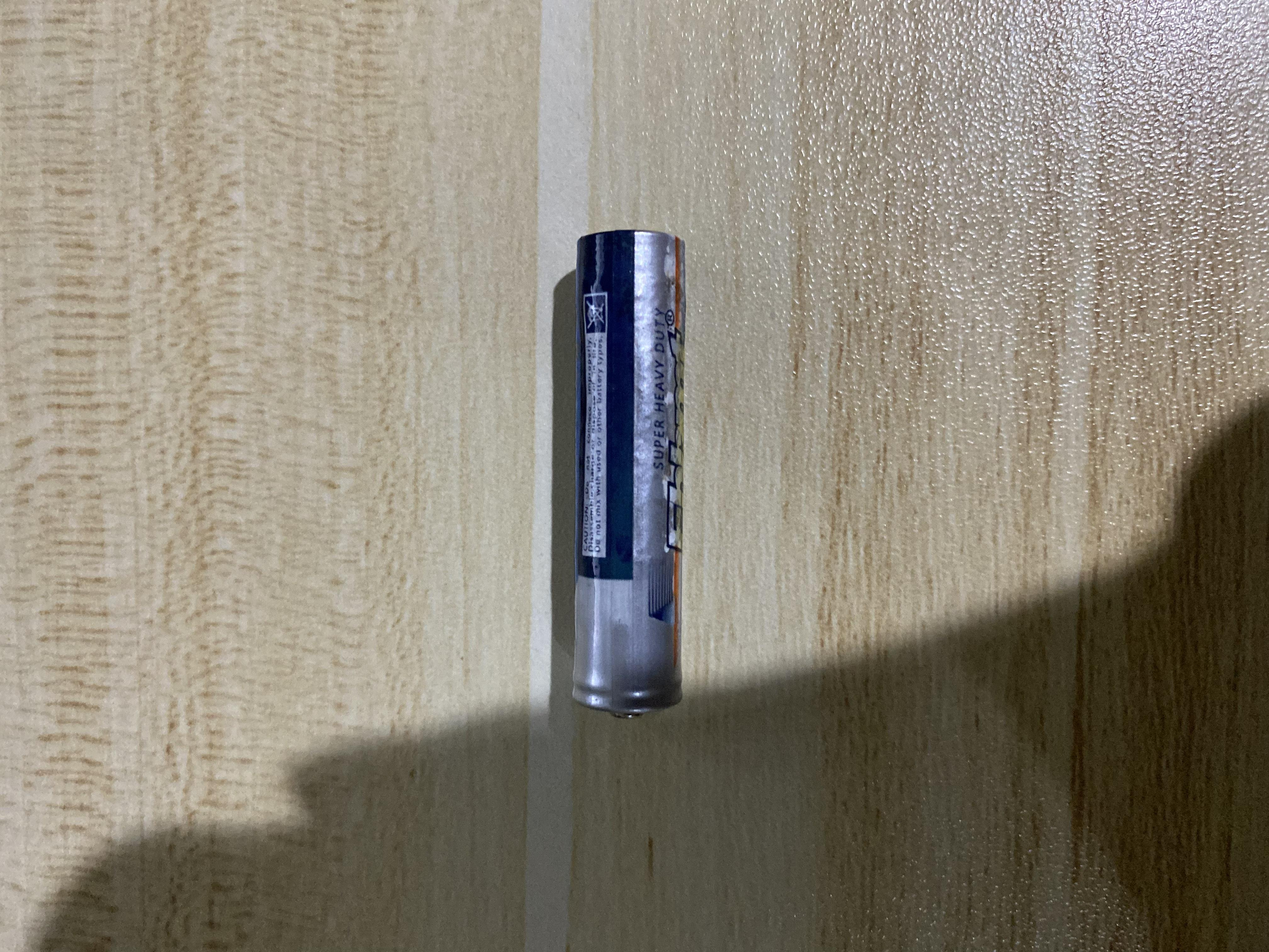AAA: (309, 426, 965, 515)
